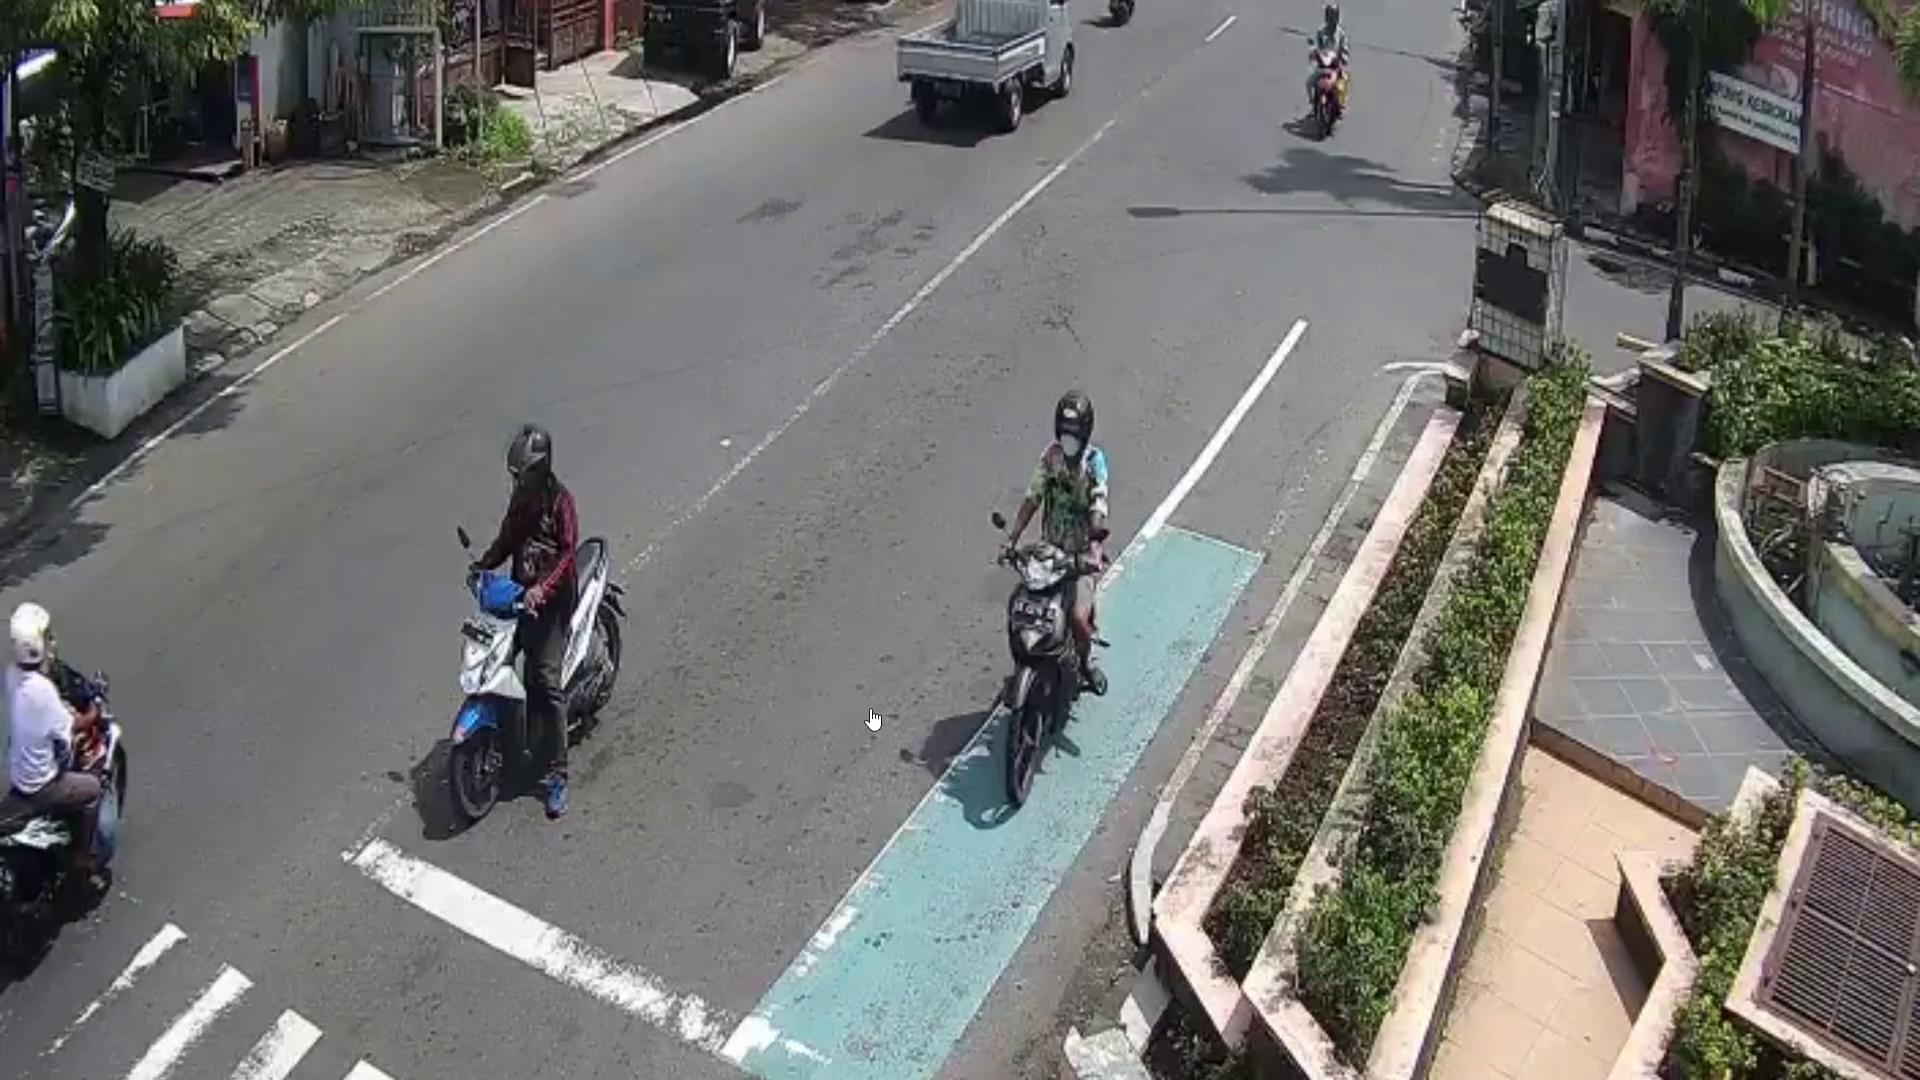car: (893, 0, 1080, 131)
motorbike: (451, 533, 624, 810), (0, 653, 124, 961), (992, 538, 1073, 814), (1305, 58, 1344, 145)
